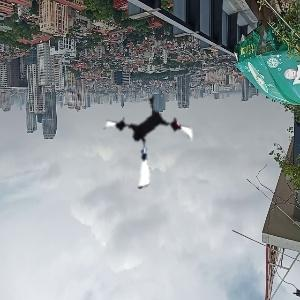drone: (99, 91, 199, 191)
